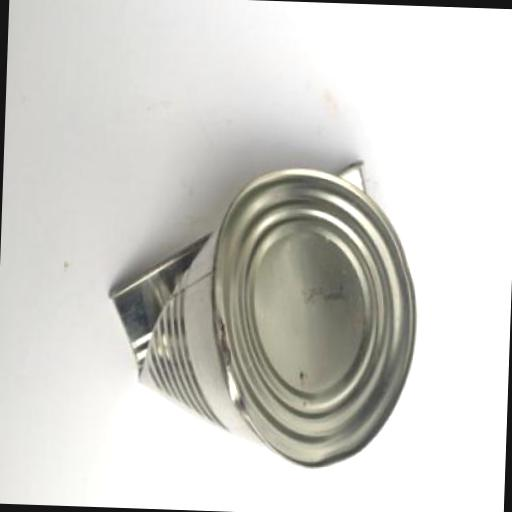metal: (104, 150, 422, 471)
